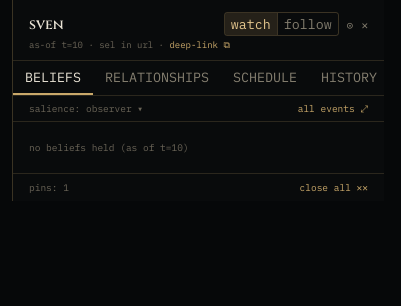
Test case: NpcInspector › Schedule tab (lane 41) › shows the NPC's base blocks, no overlay, once past end_tick (restoration)
The image size is (401, 306).
Click the tab with class "npc-inspector__tab" showing "SCHEDULE".
click(265, 78)  # box [221,61,309,95]
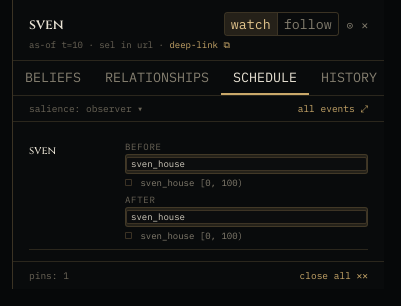
Now the text "sven_house" is shown, box [126,157,367,171]
